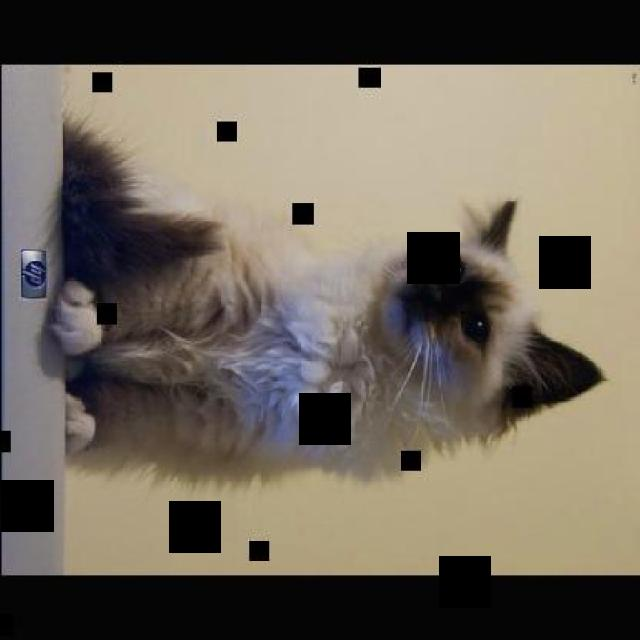unauthorized: (48, 106, 608, 482)
